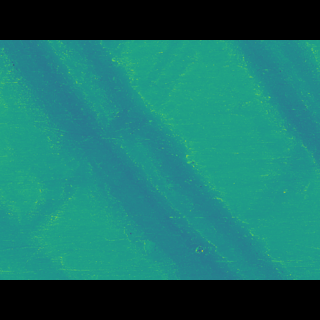Loch: (0, 69, 295, 248), (214, 70, 320, 165)
